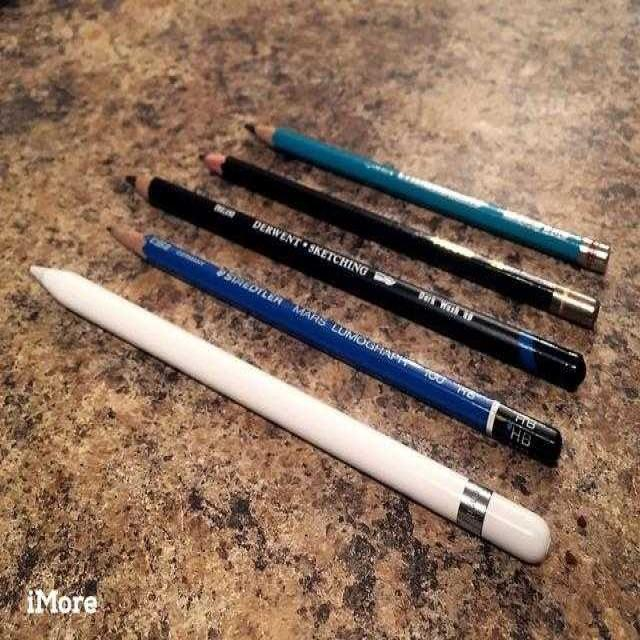pencil: (88, 206, 583, 482), (106, 162, 601, 411), (183, 137, 616, 344), (230, 105, 620, 284)
